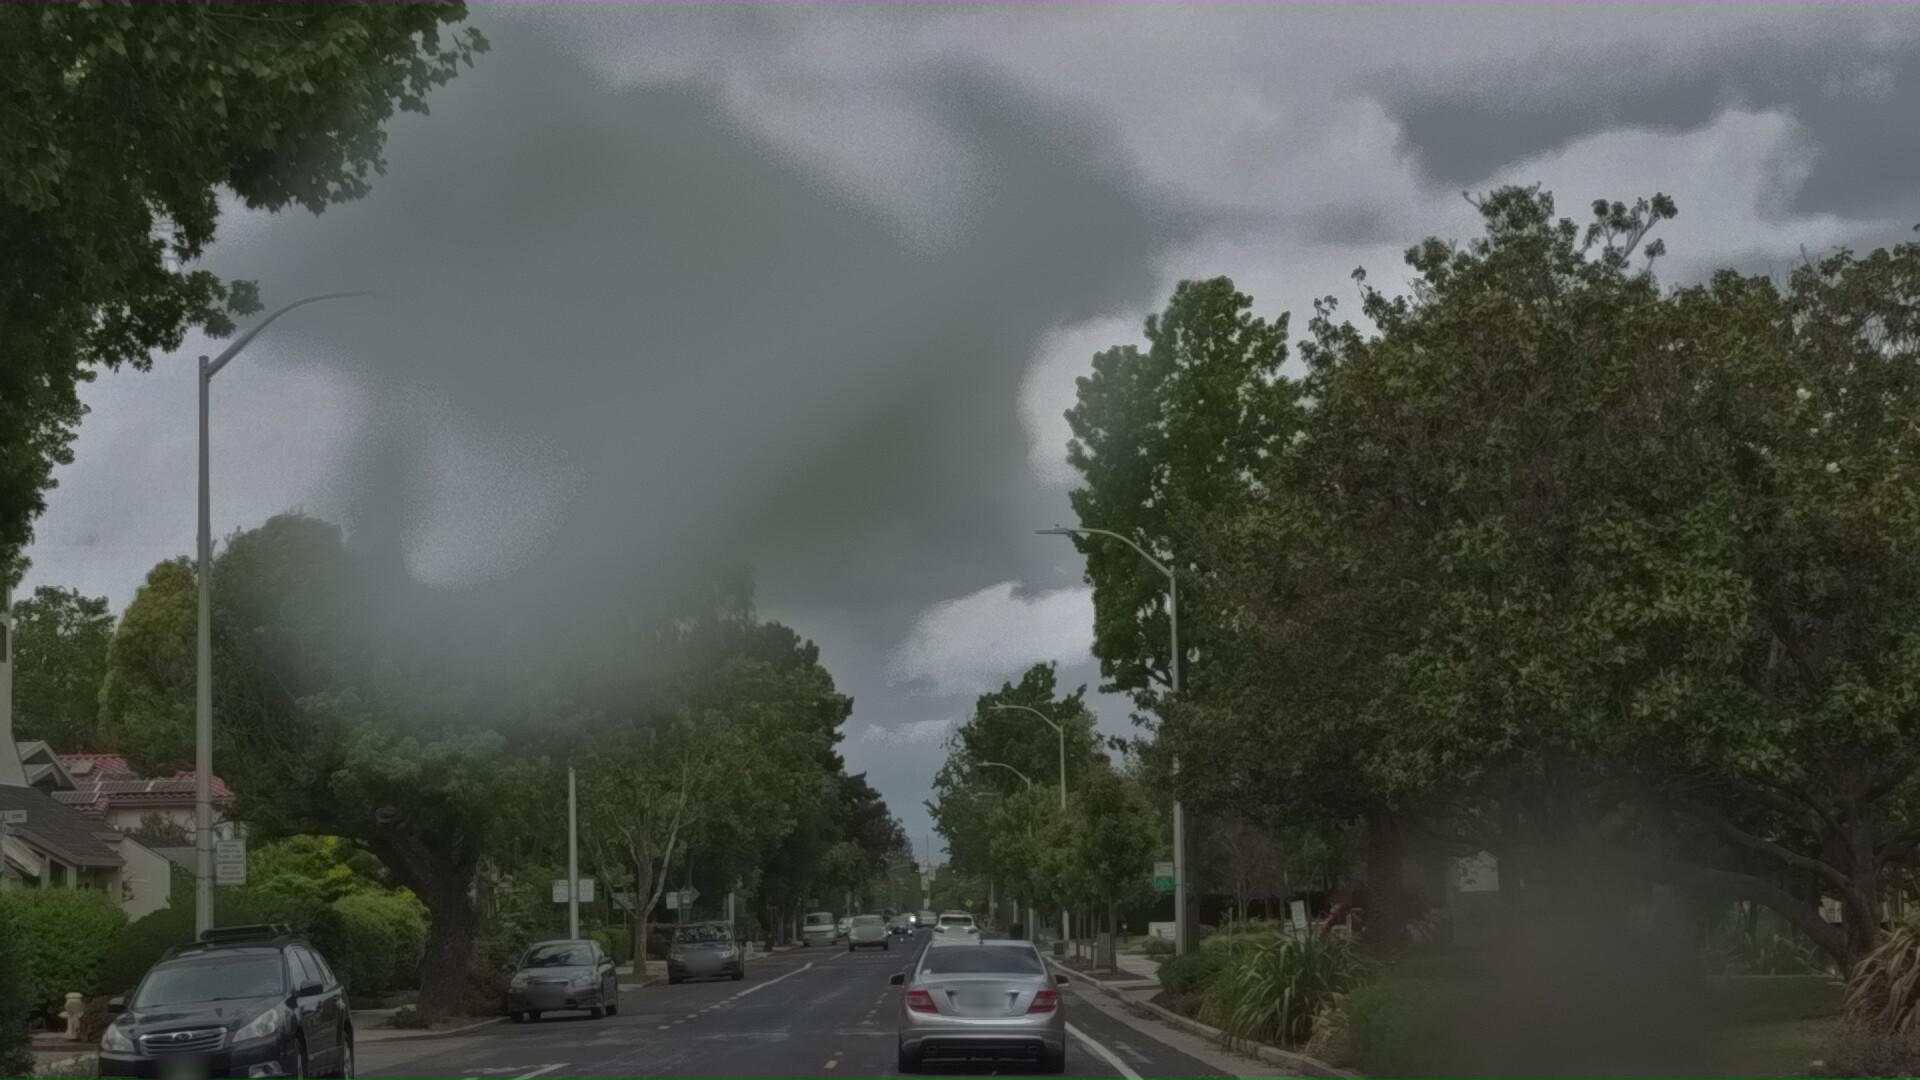car: (61, 936, 400, 1080), (899, 961, 1085, 1080), (521, 957, 640, 1047), (0, 978, 36, 1080)
